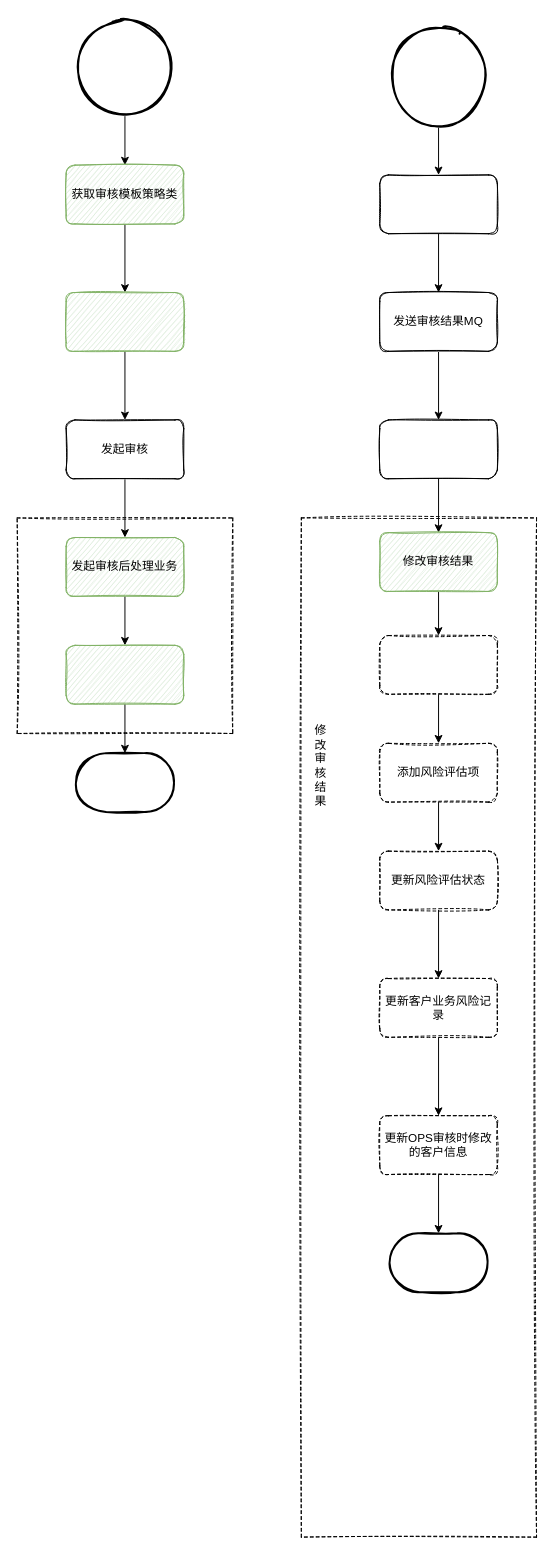
This 554x1554 diagram has some shape labels left out. Each missing label, with the box of its shape:
TKS审核: (379, 174, 497, 234)
修改风险评估记录: (379, 635, 497, 694)
修改风险评估记录状态: (65, 644, 184, 704)
接收MQ结果: (379, 419, 497, 479)
构建审核流程参数: (65, 292, 184, 351)
